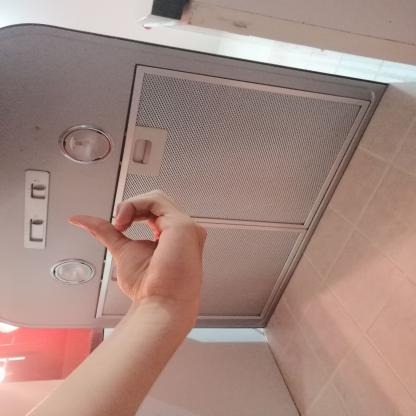WAW: (56, 181, 221, 316)
